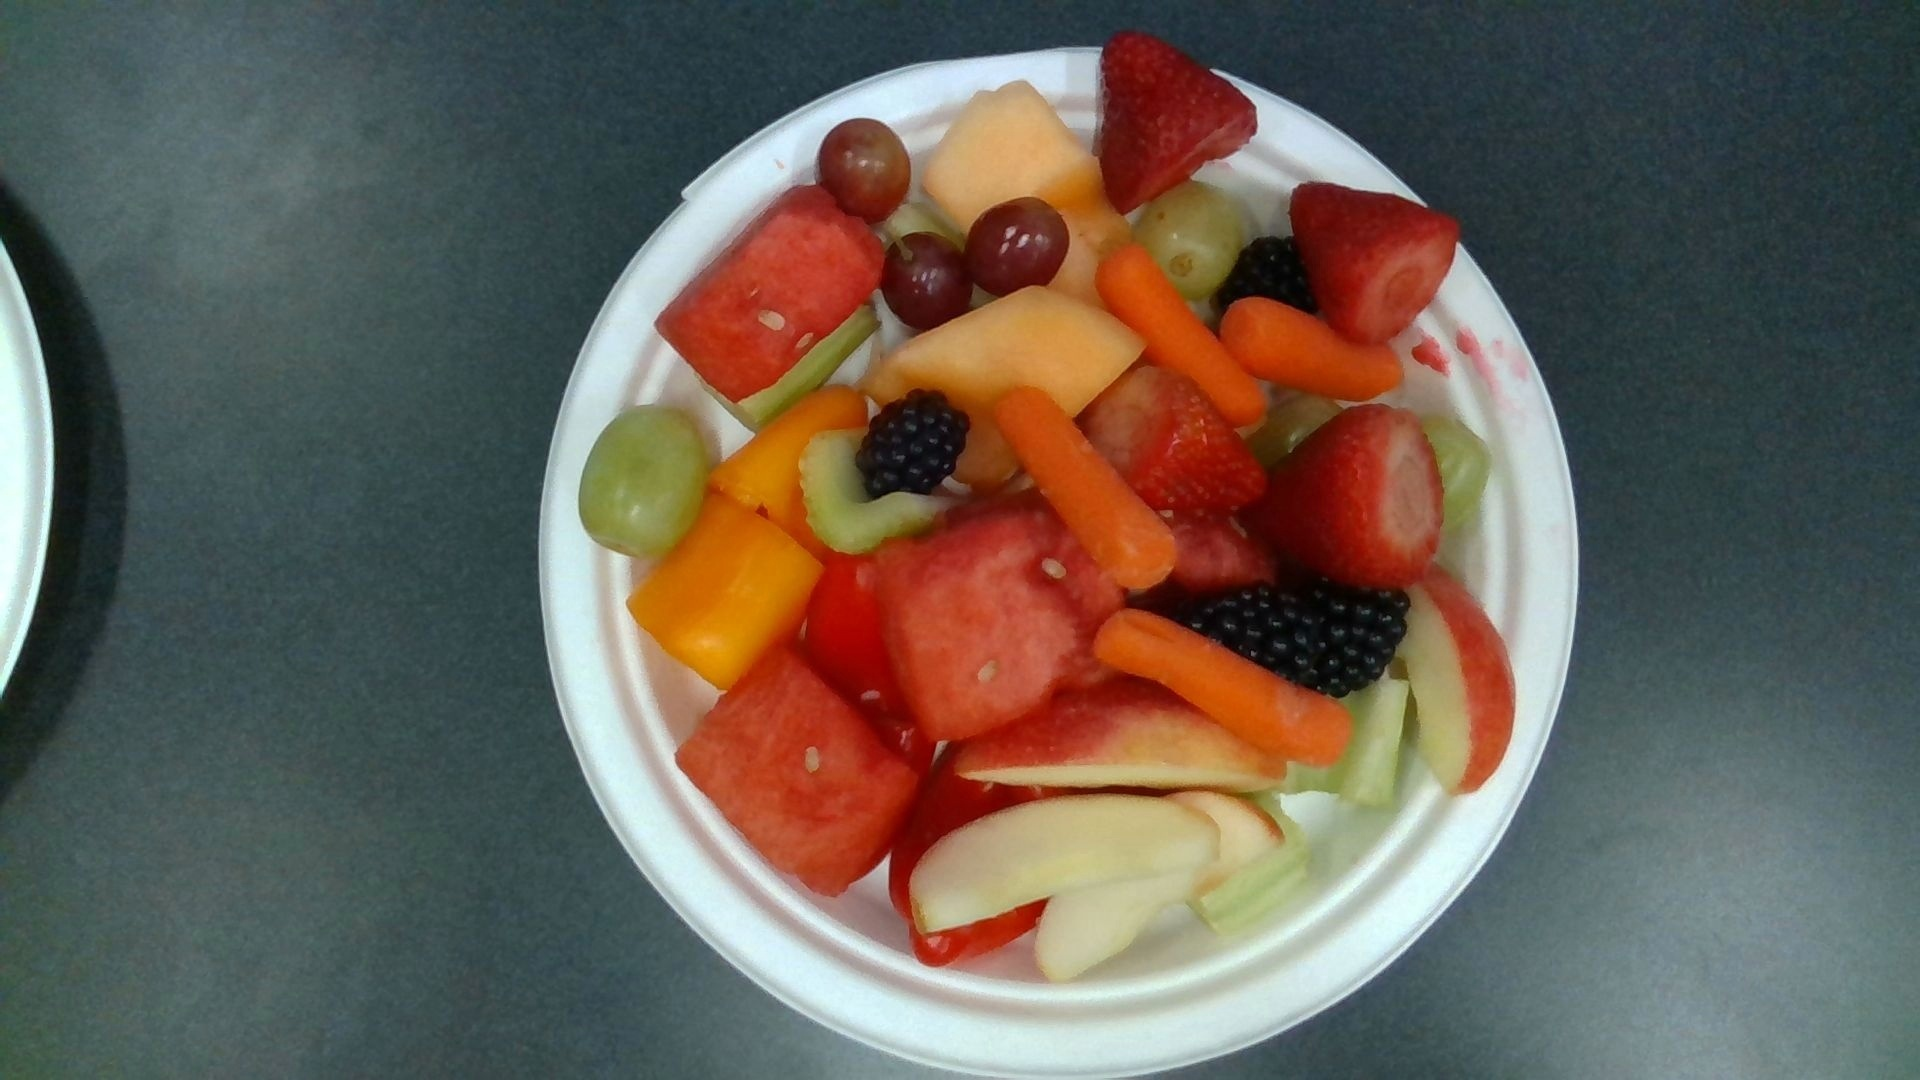apple: (913, 796, 1222, 928), (953, 683, 1288, 789), (1404, 578, 1513, 793)
bell_pepper: (630, 501, 824, 684)
blackberry: (1257, 585, 1410, 695), (858, 396, 972, 496)
cantalope: (872, 287, 1142, 471), (924, 84, 1102, 228)
carrot: (1095, 608, 1352, 765), (992, 382, 1178, 589), (1098, 251, 1265, 423), (1220, 298, 1404, 398)
grape_green: (585, 411, 705, 555), (1134, 189, 1240, 290)
grape_purple: (967, 200, 1069, 291), (820, 117, 910, 222), (882, 236, 972, 328)
melon: (676, 653, 922, 890), (880, 516, 1102, 733), (655, 189, 885, 400)
strawberry: (1249, 410, 1439, 585), (1087, 368, 1270, 520), (1100, 38, 1259, 208), (1290, 185, 1457, 335)
